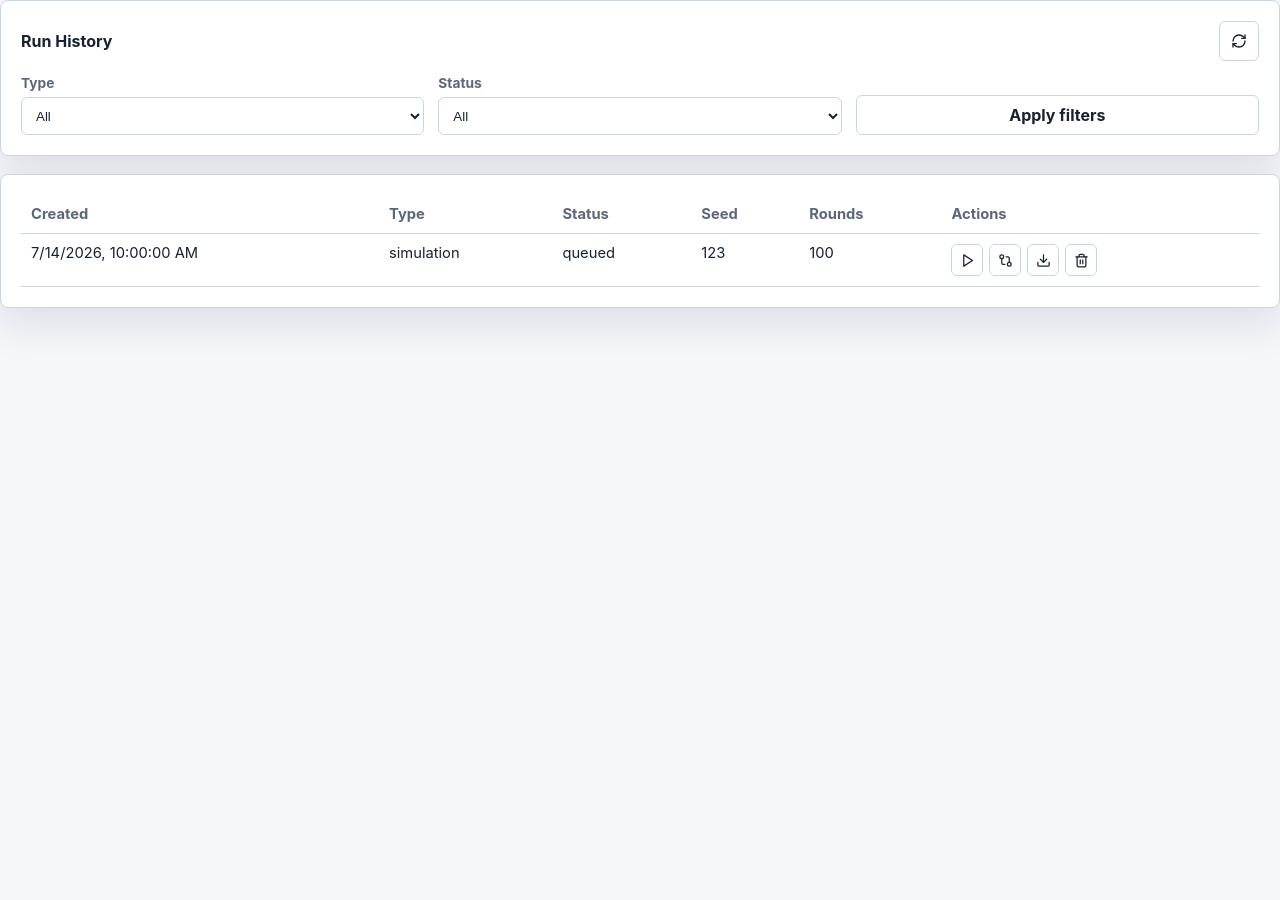
Test: HistoryPage › confirms delete and stores a run snapshot for comparison
Expected: the text "simulation" is shown, [379, 234, 552, 286]
Click the button named "Delete run-1".
click(1082, 260)  # box [1066, 244, 1098, 276]
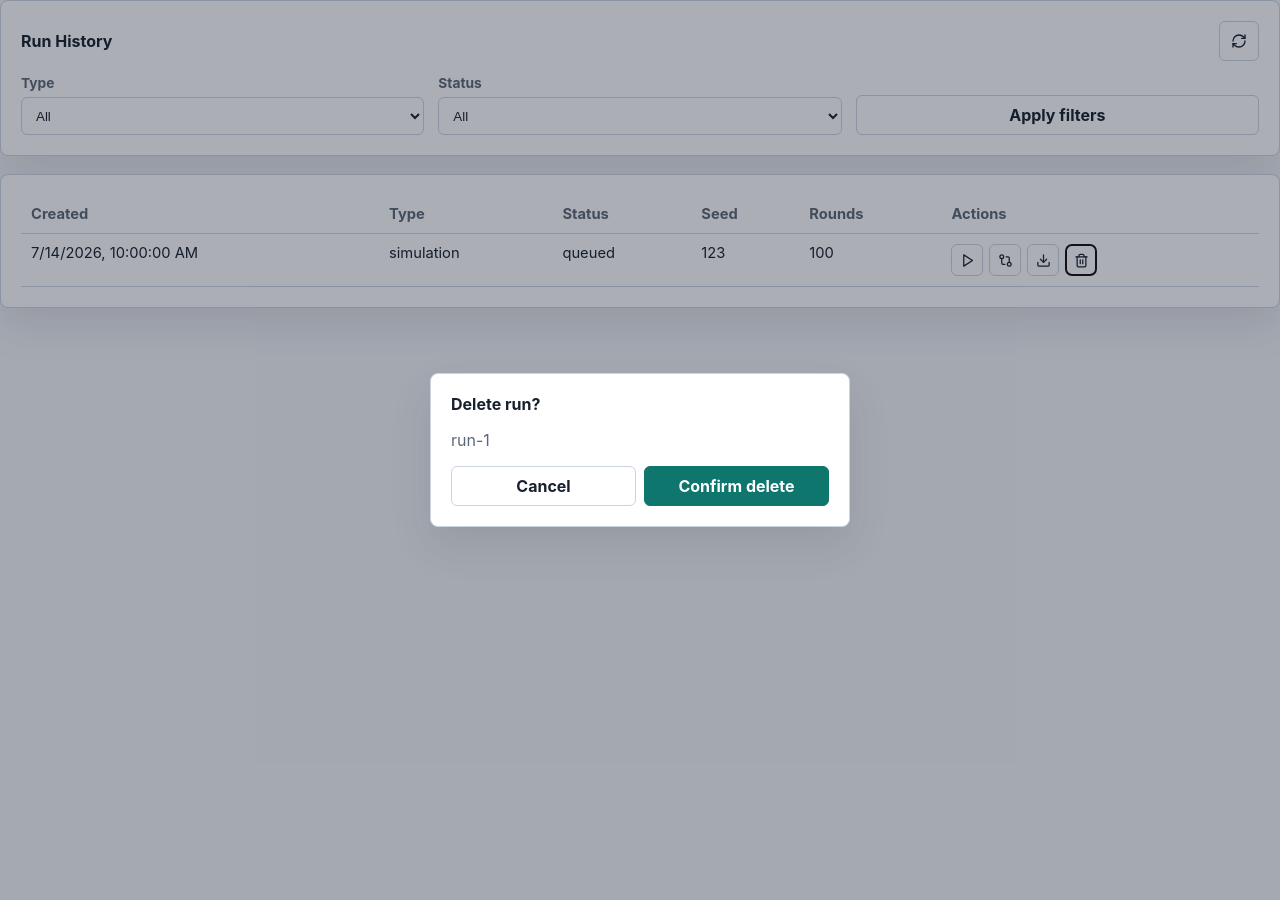
Expected: the dialog named "Delete run confirmation" is shown
Click the button "Confirm delete".
click(736, 486)  # box [644, 466, 829, 506]
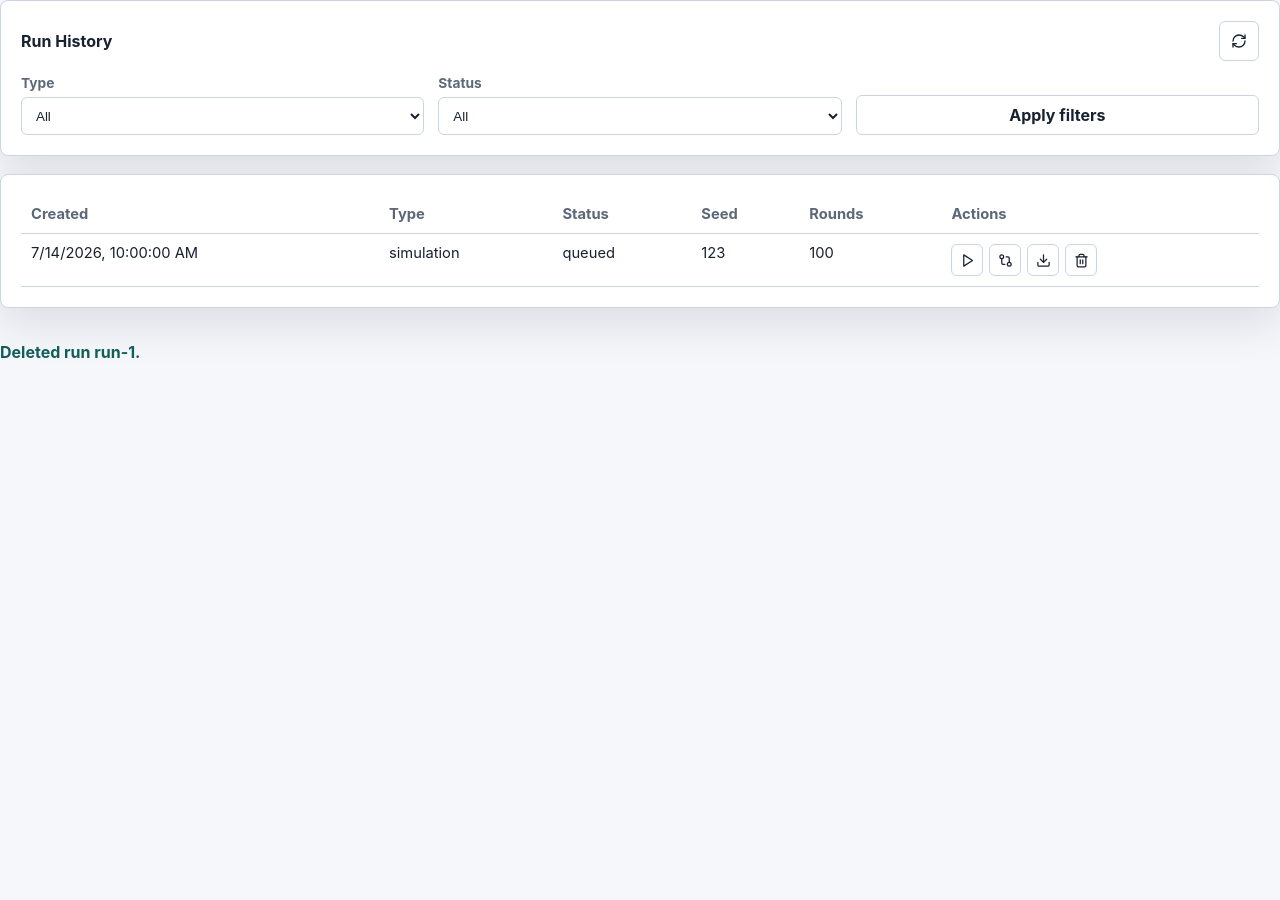
Expected: the text "Deleted run run-1." is shown, [0, 342, 140, 362]
